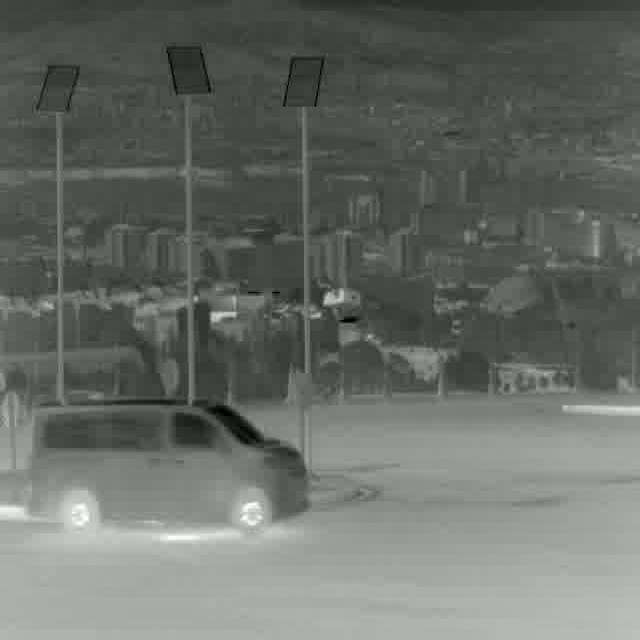Car: (30, 403, 311, 533)
